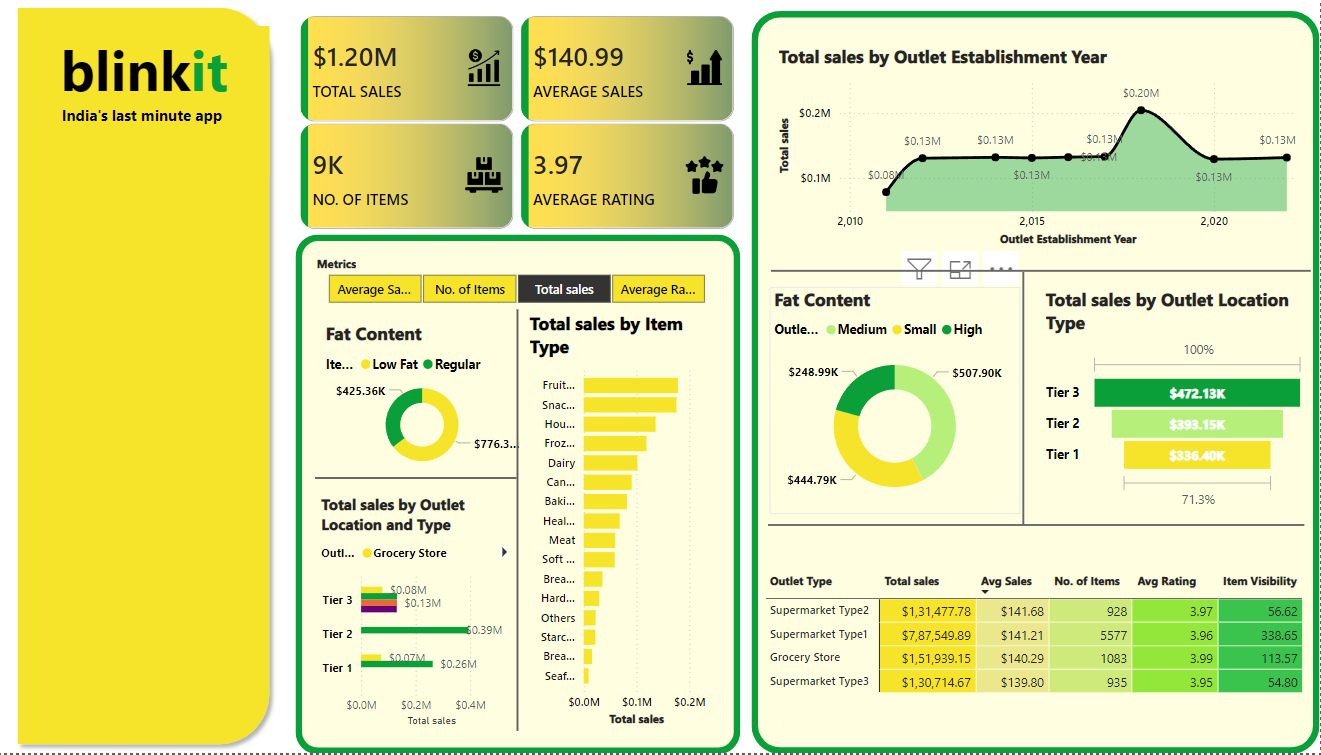

Layout of this report page (visuals, bound fields, positions):
{"tool":"powerbi","page":{"name":"Page 1","canvas":[1400,800],"ordinal":0},"visuals":[{"type":"shape","box":[10.3,0,285.2,799.9],"z":0},{"type":"textbox","box":[21.2,28.3,265.1,159.1],"z":1000},{"type":"cardVisual","fields":{"Data":["Table1.Total sales","Table1.Average Sales","Table1.No. of Items","Table1.Average Rating"]},"box":[312.8,12.4,471.9,236.8],"z":2000},{"type":"shape","box":[325.2,362.3,224.5,327],"z":3000},{"type":"shape","box":[312.8,342.9,471.9,431.2],"z":4000},{"type":"shape","box":[312.8,249.2,471.9,551.4],"z":5000},{"type":"slicer","fields":{"Values":["Metrics.Metrics"]},"box":[323.4,266.9,448.9,61.9],"z":6000},{"type":"donutChart","title":"Fat Content","fields":{"Y":["Table1.Total sales"],"Category":["Table1.Item Fat Content"]},"box":[341.1,342.9,213.8,164.4],"z":7000},{"type":"clusteredBarChart","title":"Total sales by Outlet Location and Type","fields":{"Category":["Table1.Outlet Location Type"],"Y":["Table1.Total sales"],"Series":["Table1.Outlet Type"]},"box":[335.8,524.9,219.2,251],"z":8000},{"type":"shape","box":[334,494.9,213.8,26.5],"z":9000},{"type":"shape","box":[540.8,328.7,15.9,447.1],"z":10000},{"type":"barChart","fields":{"Category":["Table1.Item Type"],"Y":["Table1.Total sales"]},"box":[556.7,330.5,196.2,445.4],"z":11000},{"type":"shape","box":[797.1,12.4,602.7,788.2],"z":12000},{"type":"lineChart","fields":{"Category":["Table1.Outlet Establishment Year"],"Y":["Table1.Total sales"]},"box":[821.8,47.7,563.8,219.2],"z":13000},{"type":"donutChart","title":"Fat Content","fields":{"Y":["Table1.Total sales"],"Category":["Table1.Outlet Size"]},"box":[816.5,305.8,265.1,240.4],"z":14000},{"type":"shape","box":[1065.7,289.8,38.9,268.6],"z":15000},{"type":"funnel","fields":{"Y":["Table1.Total sales"],"Category":["Table1.Outlet Location Type"]},"box":[1104.6,305.8,284.5,240.4],"z":16000},{"type":"pivotTable","fields":{"Rows":["Table1.Outlet Type"],"Values":["Table1.Total sales","Table1.Average Sales","Table1.No. of Items","Table1.Average Rating","Sum(Table1.Item Visibility)"]},"box":[807.7,600.9,583.2,152],"z":17000},{"type":"shape","box":[818.3,277.5,572.6,23],"z":18000},{"type":"shape","box":[814.7,547.9,569.1,21.2],"z":19000}]}

Visuals, with their boxes in screenshot pixels (x1, y1, x2, y2), scaled from the page's 1400x800 canvas onto the 1321x755 screenshot:
shape: {"x1": 10, "y1": 0, "x2": 279, "y2": 754}
textbox: {"x1": 20, "y1": 27, "x2": 270, "y2": 177}
cardVisual - Table1.Total sales x Table1.Average Sales: {"x1": 295, "y1": 12, "x2": 740, "y2": 235}
shape: {"x1": 307, "y1": 342, "x2": 519, "y2": 651}
shape: {"x1": 295, "y1": 324, "x2": 740, "y2": 731}
shape: {"x1": 295, "y1": 235, "x2": 740, "y2": 754}
slicer - Metrics.Metrics: {"x1": 305, "y1": 252, "x2": 729, "y2": 310}
"Fat Content" donutChart: {"x1": 322, "y1": 324, "x2": 524, "y2": 479}
"Total sales by Outlet Location and Type" clusteredBarChart: {"x1": 317, "y1": 495, "x2": 524, "y2": 732}
shape: {"x1": 315, "y1": 467, "x2": 517, "y2": 492}
shape: {"x1": 510, "y1": 310, "x2": 525, "y2": 732}
barChart - Table1.Item Type x Table1.Total sales: {"x1": 525, "y1": 312, "x2": 710, "y2": 732}
shape: {"x1": 752, "y1": 12, "x2": 1320, "y2": 754}
lineChart - Table1.Outlet Establishment Year x Table1.Total sales: {"x1": 775, "y1": 45, "x2": 1307, "y2": 252}
"Fat Content" donutChart: {"x1": 770, "y1": 289, "x2": 1021, "y2": 515}
shape: {"x1": 1006, "y1": 273, "x2": 1042, "y2": 527}
funnel - Table1.Total sales x Table1.Outlet Location Type: {"x1": 1042, "y1": 289, "x2": 1311, "y2": 515}
pivotTable - Table1.Outlet Type x Table1.Total sales: {"x1": 762, "y1": 567, "x2": 1312, "y2": 711}
shape: {"x1": 772, "y1": 262, "x2": 1312, "y2": 284}
shape: {"x1": 769, "y1": 517, "x2": 1306, "y2": 537}
